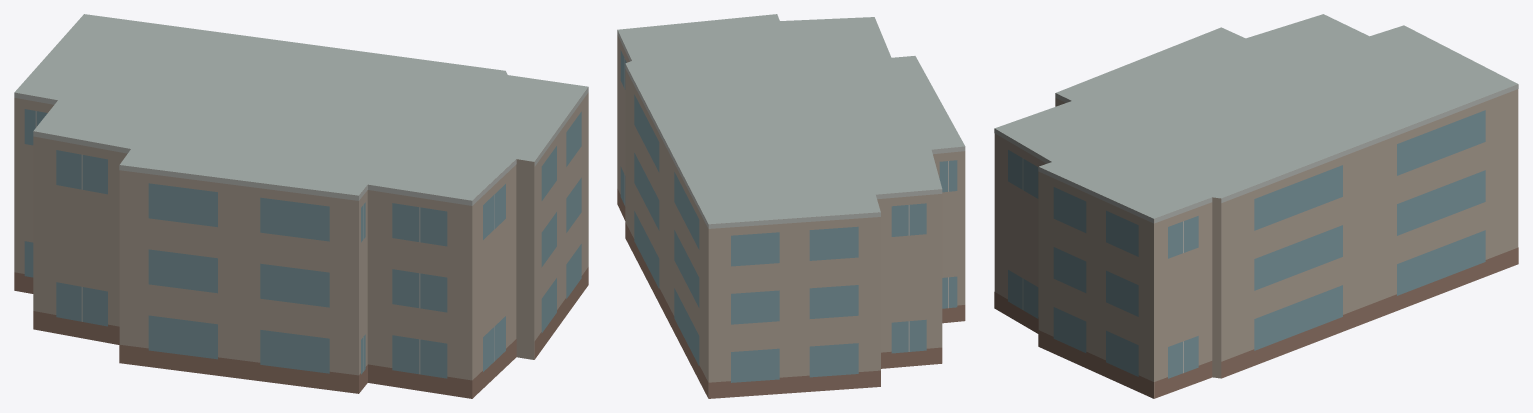
File: survey-upis-32472239.glb
3 renders of one model, left to right at view 1: azimuth 30°, elevation 25°; view 2: azimuth 150°, elevation 25°; view 3: azimuth 270°, elevation 25°, orthographic. The views are drawn at different scales.
Parts seen in each view (by area): view 1: survey-upis-32472239.tmp; view 2: survey-upis-32472239.tmp; view 3: survey-upis-32472239.tmp.
Boxes of the visible parts, x1,y1,x2,y2 form: survey-upis-32472239.tmp: (14, 14, 588, 398); survey-upis-32472239.tmp: (617, 14, 965, 398); survey-upis-32472239.tmp: (994, 14, 1518, 398).
Size of the model in its own units: 22.33 by 9.15 by 24.14.
